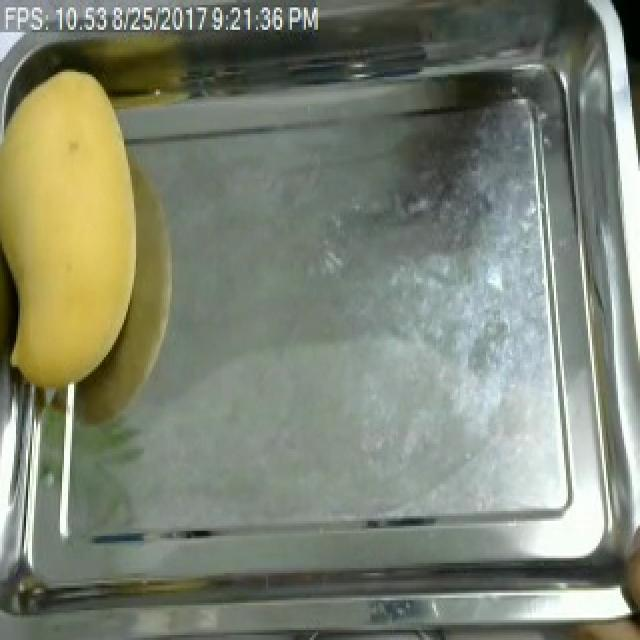fruit: (0, 52, 158, 402)
